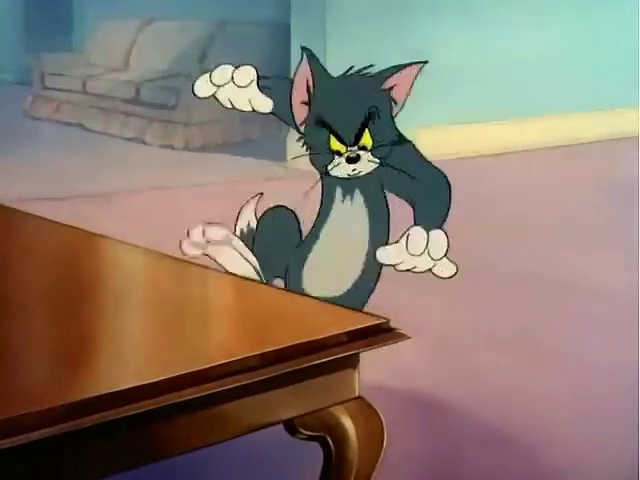tom: (162, 27, 475, 331)
